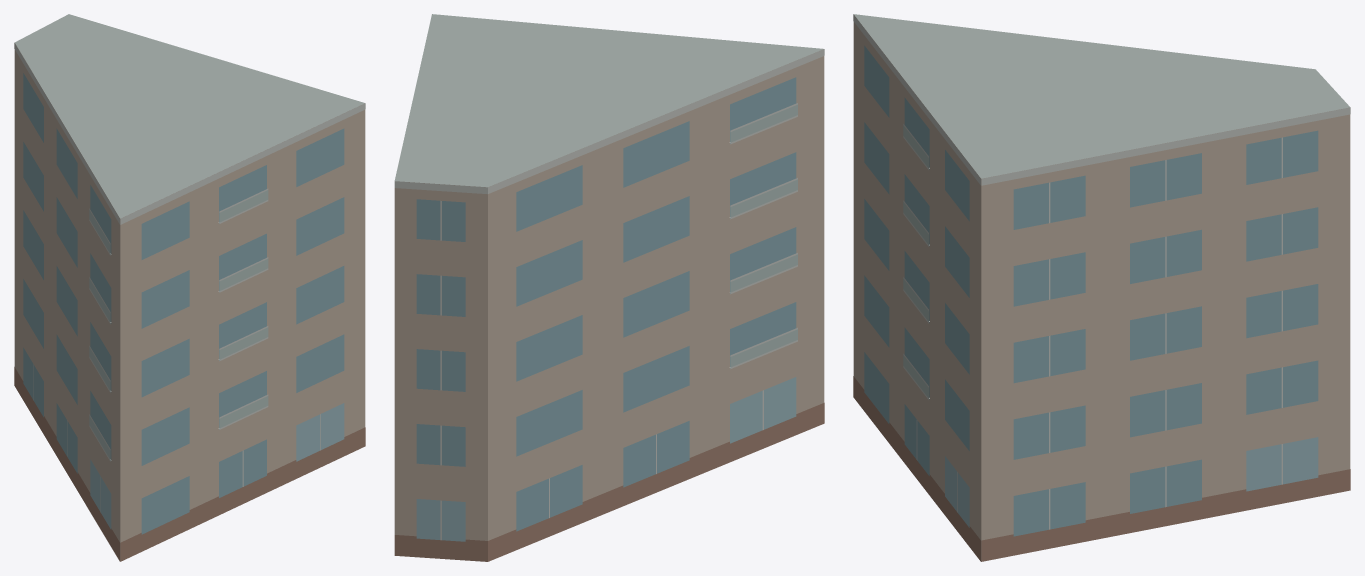
The model's file is survey-upis-32658690.glb.
3 views of the same model, side by side, from view 1: azimuth 30°, elevation 25°; view 2: azimuth 150°, elevation 25°; view 3: azimuth 270°, elevation 25° (orthographic). The views are drawn at different scales.
Visible parts, largest first — view 1: survey-upis-32658690.tmp; view 2: survey-upis-32658690.tmp; view 3: survey-upis-32658690.tmp.
Boxes of the visible parts, left/top/right/bottom form: survey-upis-32658690.tmp: left=14, top=14, right=365, bottom=561; survey-upis-32658690.tmp: left=394, top=14, right=824, bottom=561; survey-upis-32658690.tmp: left=853, top=14, right=1350, bottom=561.
Bounding box in the file's own units: 12.18 × 13.2 × 15.53.
